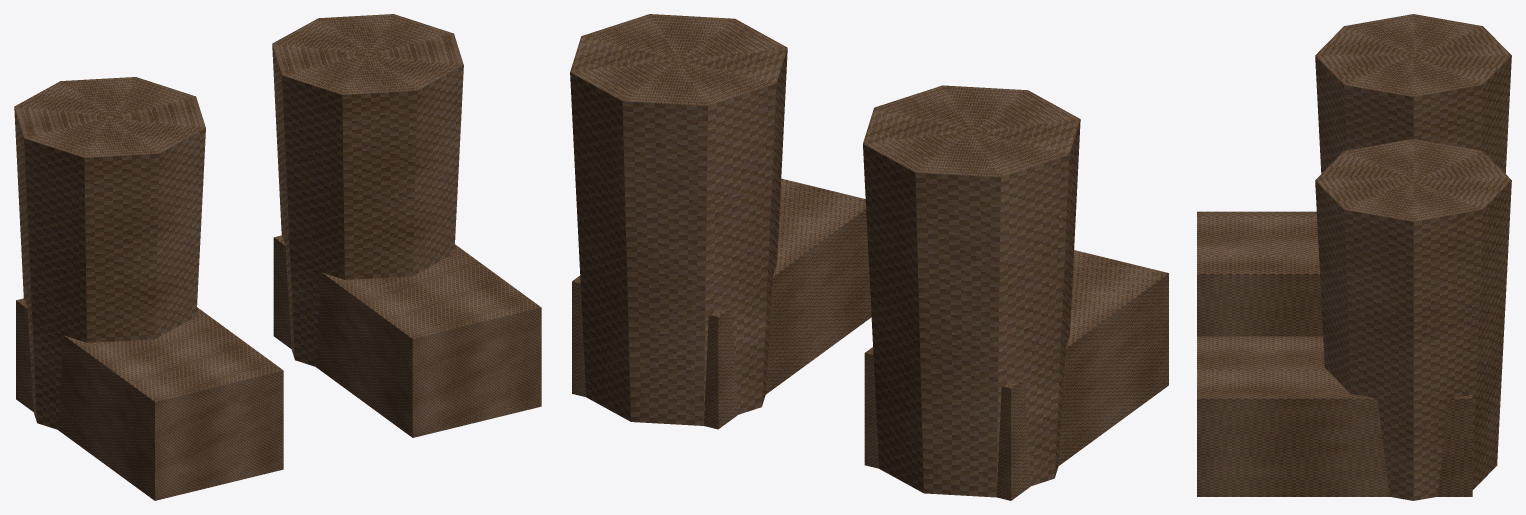
The model's file is botas_gastas.glb.
3 renders of one model, left to right at view 1: azimuth 30°, elevation 25°; view 2: azimuth 150°, elevation 25°; view 3: azimuth 270°, elevation 25°, orthographic. The views are drawn at different scales.
Visible parts, largest first — view 1: botas_gastas; view 2: botas_gastas; view 3: botas_gastas.
Boxes of the visible parts, <box> form: botas_gastas: <box>14,14,541,500</box>; botas_gastas: <box>570,14,1168,500</box>; botas_gastas: <box>1197,14,1511,500</box>.
Bounding box in the file's own units: 0.5 × 0.32 × 0.32.
Materials: 1 (1 with a texture image).
